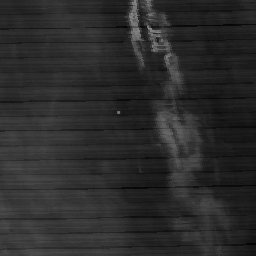Target: (115, 109, 121, 116)
